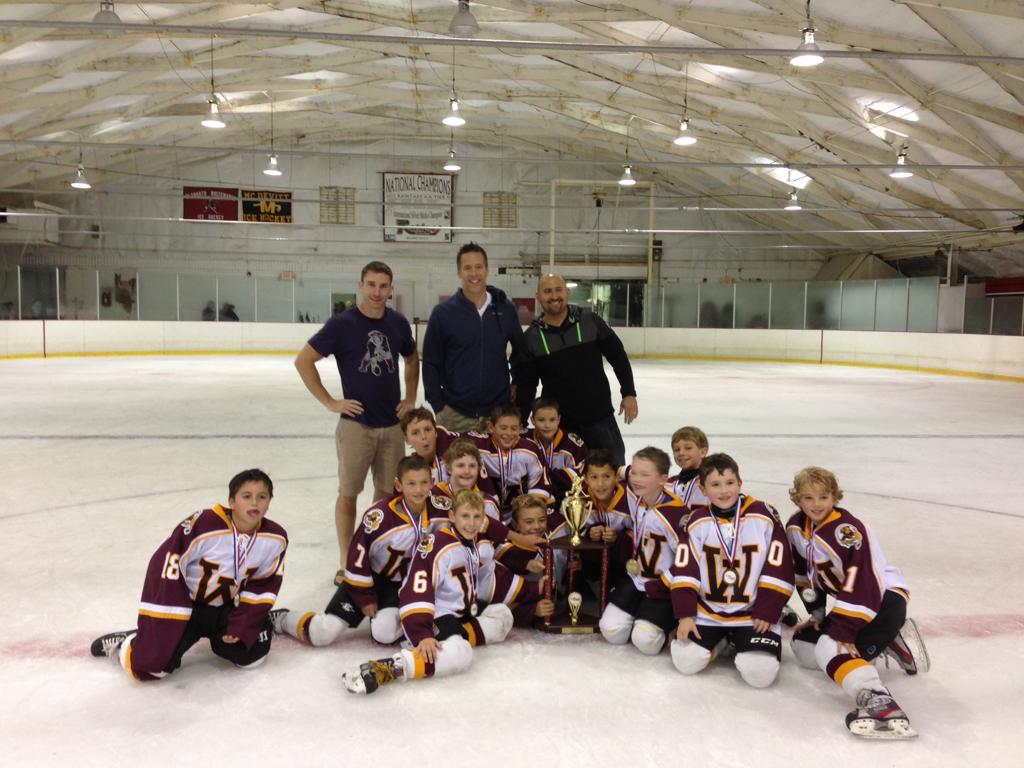face: (236, 481, 271, 524), (705, 471, 740, 510), (802, 484, 834, 520), (539, 276, 569, 314), (460, 253, 487, 292), (630, 459, 659, 495), (407, 421, 437, 455), (363, 273, 391, 309), (403, 471, 432, 505), (518, 509, 547, 540), (588, 467, 615, 500), (456, 507, 482, 541), (450, 457, 478, 487), (672, 441, 700, 468), (534, 408, 559, 438), (496, 417, 520, 448)
